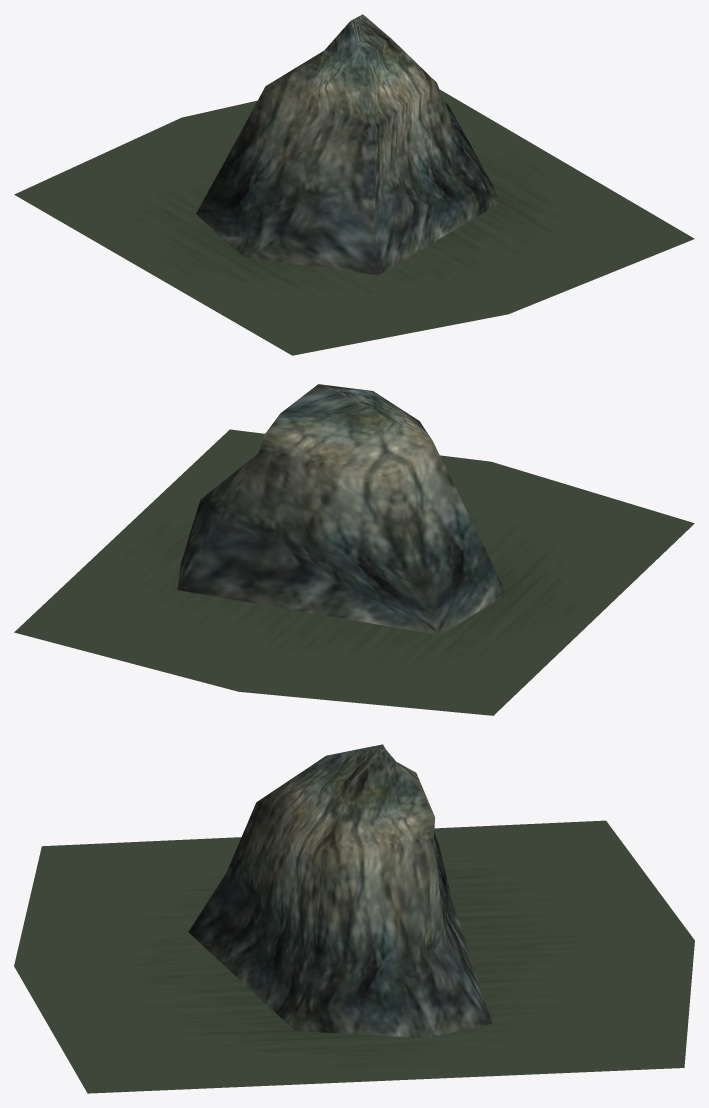
File: pir_m_are_isl_rockBig_worldmap.fbx
3 renders of one model, top to bottom at view 1: azimuth 30°, elevation 25°; view 2: azimuth 150°, elevation 25°; view 3: azimuth 270°, elevation 25°, orthographic. The views are drawn at different scales.
Visible parts, largest first — view 1: sketchmark, top_mesh; view 2: sketchmark, top_mesh; view 3: sketchmark, top_mesh.
Boxes of the visible parts, left/top/right/bottom form: sketchmark: left=14, top=89, right=694, bottom=355; top_mesh: left=196, top=14, right=501, bottom=275; sketchmark: left=14, top=429, right=694, bottom=715; top_mesh: left=177, top=384, right=506, bottom=635; sketchmark: left=14, top=820, right=694, bottom=1093; top_mesh: left=188, top=744, right=492, bottom=1037.
Bounding box in the file's own units: 8.12 × 3.13 × 8.56.
Materials: 2 (2 with a texture image).
